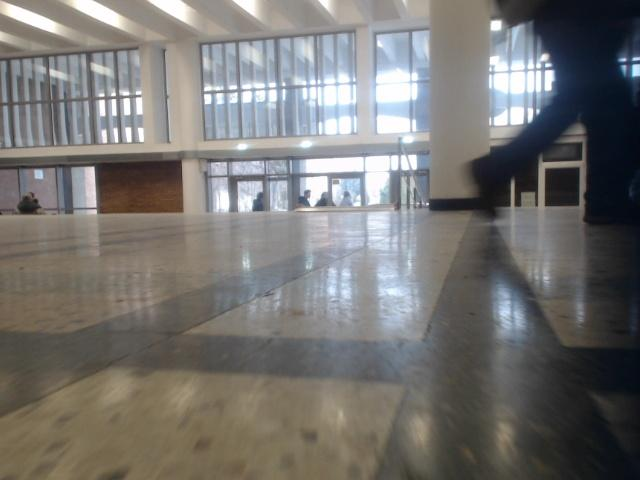rampDown: (295, 204, 394, 212)
ramps-railing: (396, 138, 426, 206)
